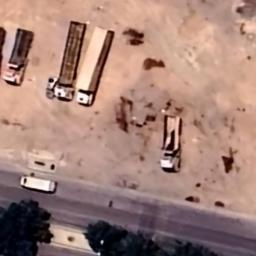sedan: (18, 174, 68, 199), (46, 74, 58, 101)
truck: (73, 20, 112, 112), (51, 16, 88, 107), (1, 22, 37, 88), (158, 113, 190, 173)
